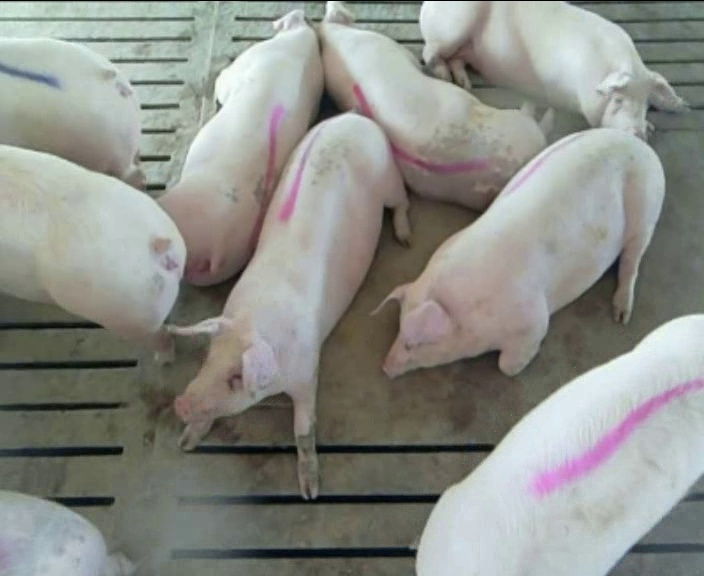pig: (172, 113, 409, 498), (417, 315, 703, 572), (318, 3, 554, 209), (158, 10, 322, 283), (420, 2, 686, 139)
